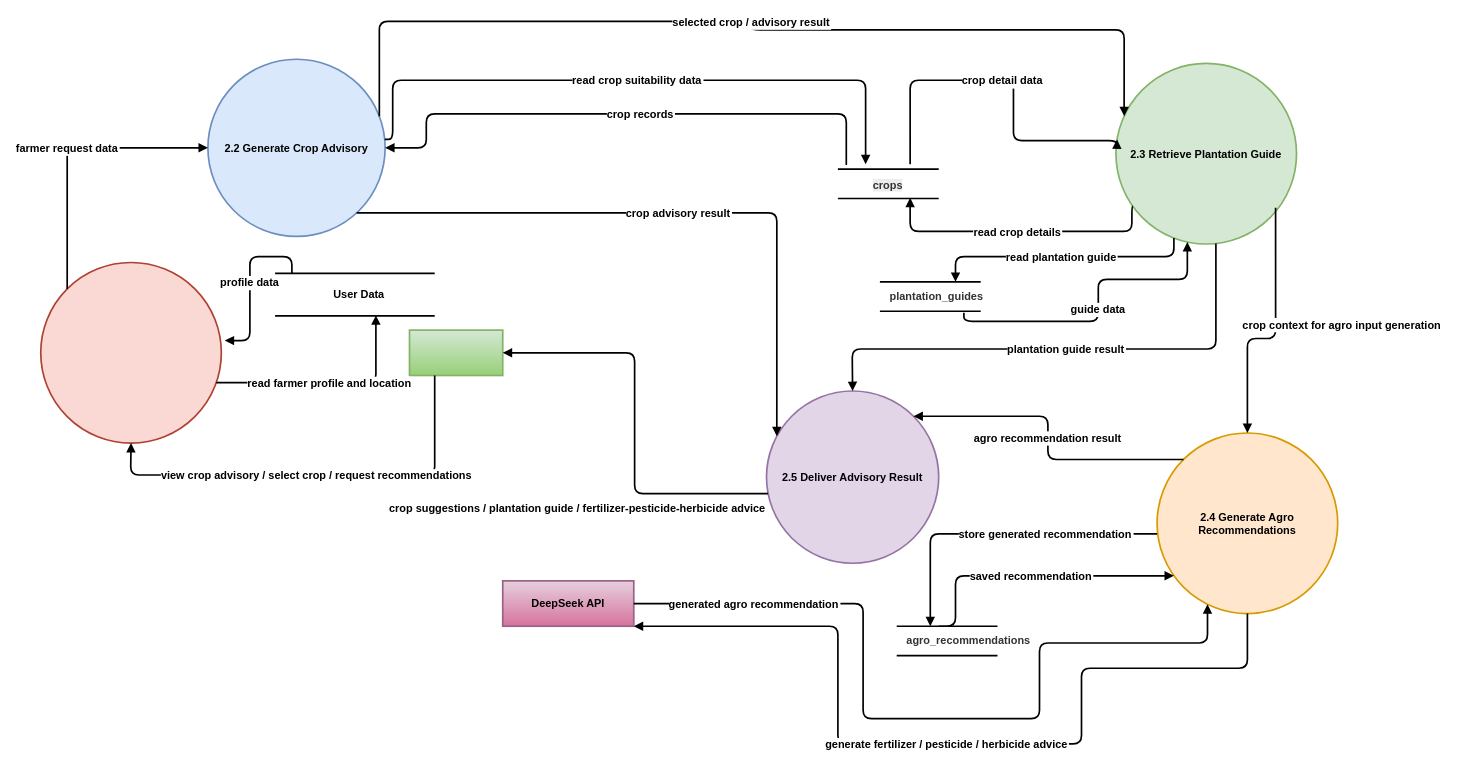
This 1457x765 diagram has some shape labels left out. The shapes that lost their labels are listed below. From the top down, each one's centre as x and y in pixels, then its label:
At [130,352]: "2.1 Receive Farmer Request".
At [455,352]: "Farmer".
